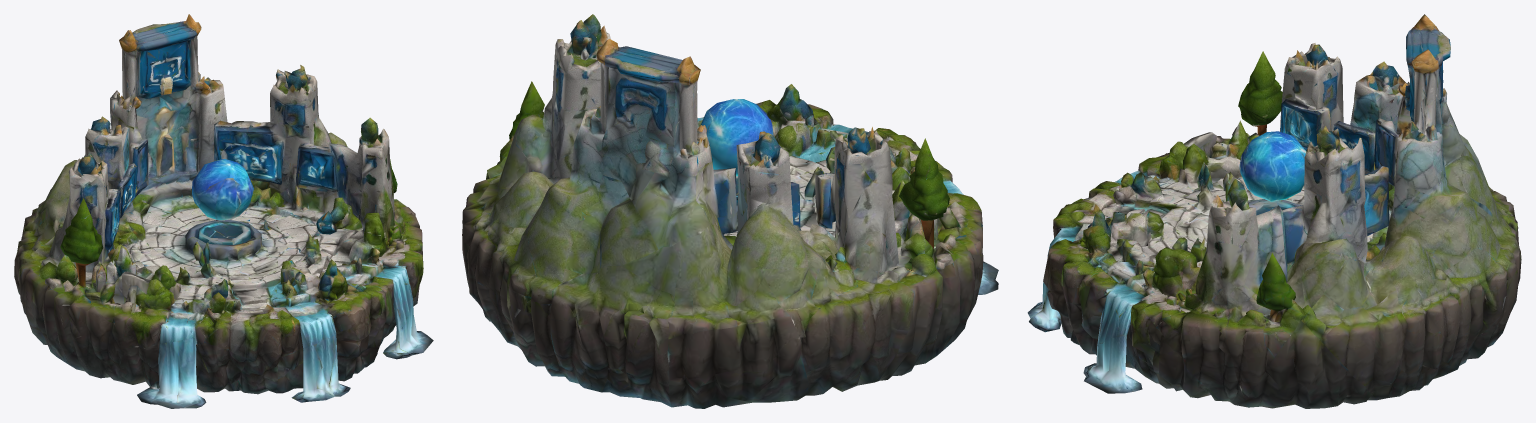
Rendered from pulau-digital.glb.
The picture shows the model from 3 angles, left to right: view 1: azimuth 30°, elevation 25°; view 2: azimuth 150°, elevation 25°; view 3: azimuth 270°, elevation 25°; orthographic projection. The views are drawn at different scales.
Bounding box in the file's own units: 1.83 × 1.21 × 1.89.
Materials: 1 (1 with a texture image).
